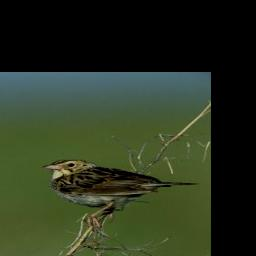Sparrow: (34, 155, 202, 231)
